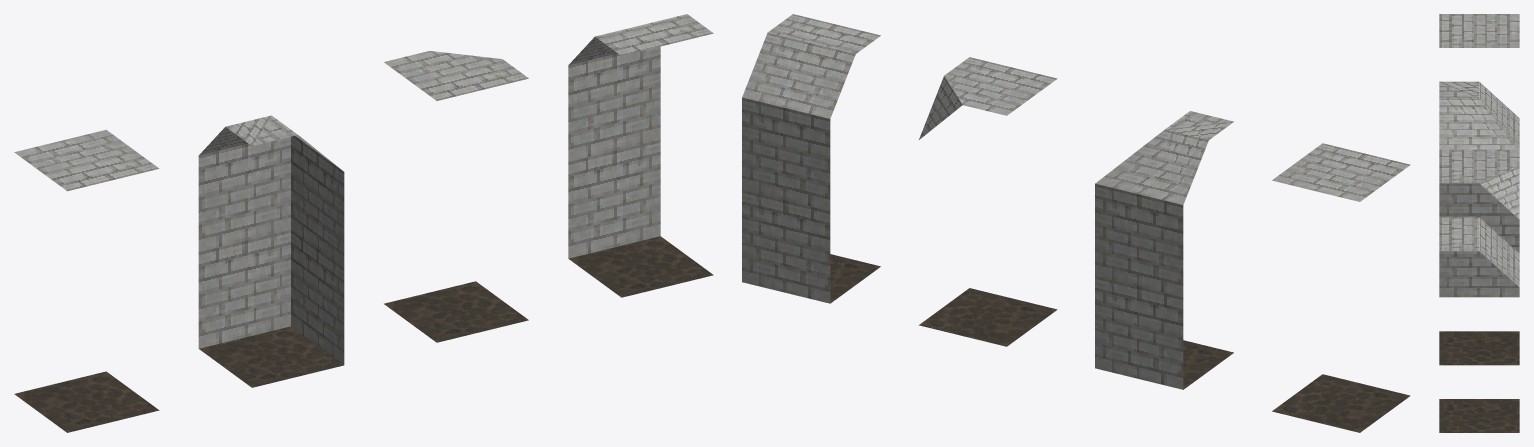
Rendered from Dungeon.glb.
3 views of the same model, side by side, from view 1: azimuth 30°, elevation 25°; view 2: azimuth 150°, elevation 25°; view 3: azimuth 270°, elevation 25° (orthographic). The views are drawn at different scales.
Visible parts, largest first — view 1: Corner-Wall-col, Flat-Wall-col, Wall-col, Cornice-Wall-col; view 2: Flat-Wall-col, Corner-Wall-col, Cornice-Wall-col, Wall-col; view 3: Corner-Wall-col, Cornice-Wall-col, Flat-Wall-col, Wall-col.
Boxes of the visible parts, x1,y1,x2,y2 form: Corner-Wall-col: (198, 115, 344, 387); Flat-Wall-col: (568, 14, 713, 297); Wall-col: (14, 129, 159, 432); Cornice-Wall-col: (384, 51, 528, 342); Flat-Wall-col: (742, 14, 880, 303); Corner-Wall-col: (1095, 111, 1233, 389); Cornice-Wall-col: (919, 57, 1057, 346); Wall-col: (1272, 143, 1410, 432); Corner-Wall-col: (1439, 81, 1519, 297); Cornice-Wall-col: (1439, 149, 1519, 365); Flat-Wall-col: (1439, 217, 1519, 432); Wall-col: (1439, 14, 1519, 47).
Bounding box in the file's own units: 7 × 2.5 × 1.
1 material, 1 textured.
